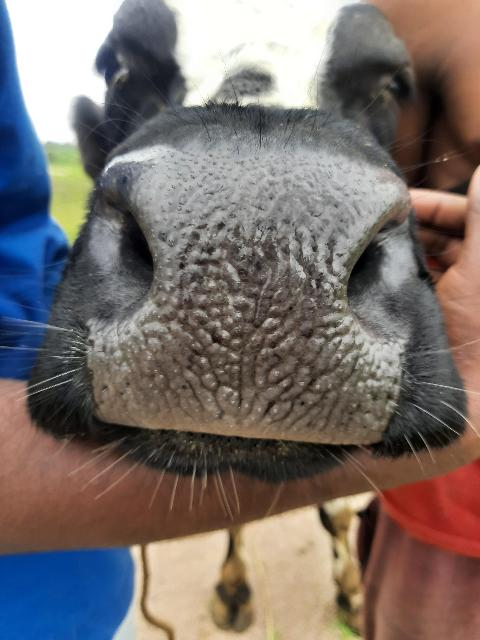Muzzle: (126, 154, 380, 442)
